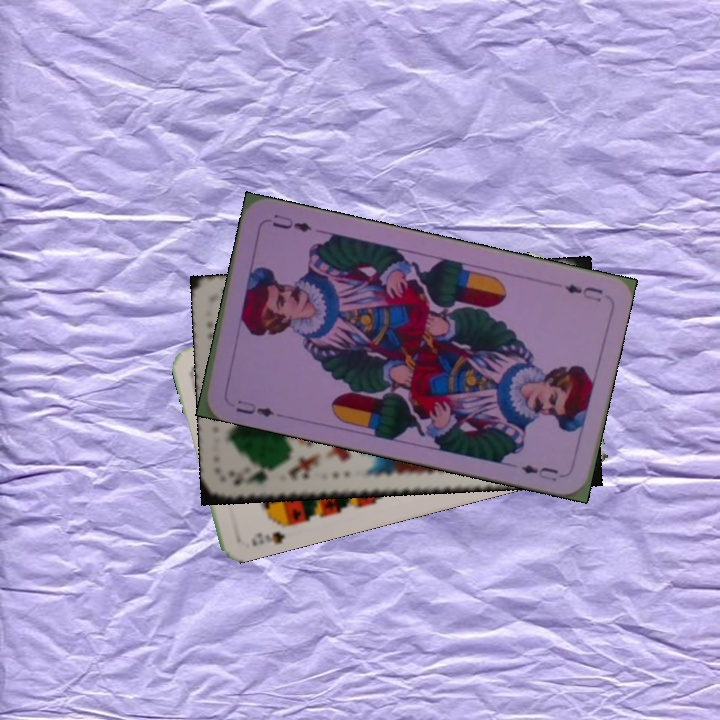EU: (232, 395, 282, 420), (560, 280, 605, 304)
GK: (225, 465, 281, 488)
S9: (247, 514, 298, 550)
